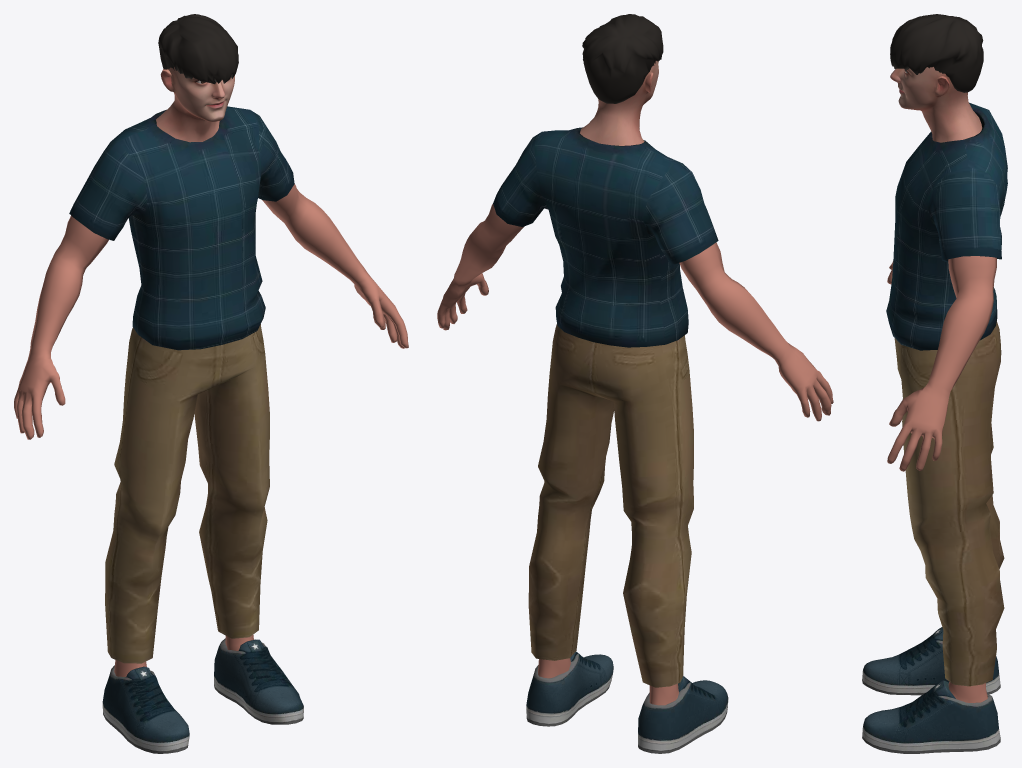
The model's file is will.glb.
3 renders of one model, left to right at view 1: azimuth 30°, elevation 25°; view 2: azimuth 150°, elevation 25°; view 3: azimuth 270°, elevation 25°, orthographic.
Parts seen in each view (by area): view 1: Object_17, Object_21, Object_15, Object_19, Object_23, Object_11; view 2: Object_17, Object_21, Object_15, Object_19, Object_23, Object_11; view 3: Object_17, Object_21, Object_19, Object_15, Object_23, Object_11.
Boxes of the visible parts, x1,y1,x2,y2 form: Object_17: (105,324,269,663); Object_21: (69,106,294,350); Object_15: (14,184,408,676); Object_19: (102,638,303,753); Object_23: (158,14,238,84); Object_11: (156,67,234,142); Object_17: (528,324,693,687); Object_21: (493,127,718,347); Object_15: (437,204,833,705); Object_19: (526,651,728,753); Object_23: (582,14,663,103); Object_11: (580,61,658,145); Object_17: (894,321,1004,686); Object_21: (886,102,1007,350); Object_19: (862,627,1000,753); Object_15: (887,256,996,702); Object_23: (890,14,983,92); Object_11: (890,67,982,142).
Size of the model in its own units: 1.06 by 1.85 by 0.3503.
8 materials, 8 textured.
